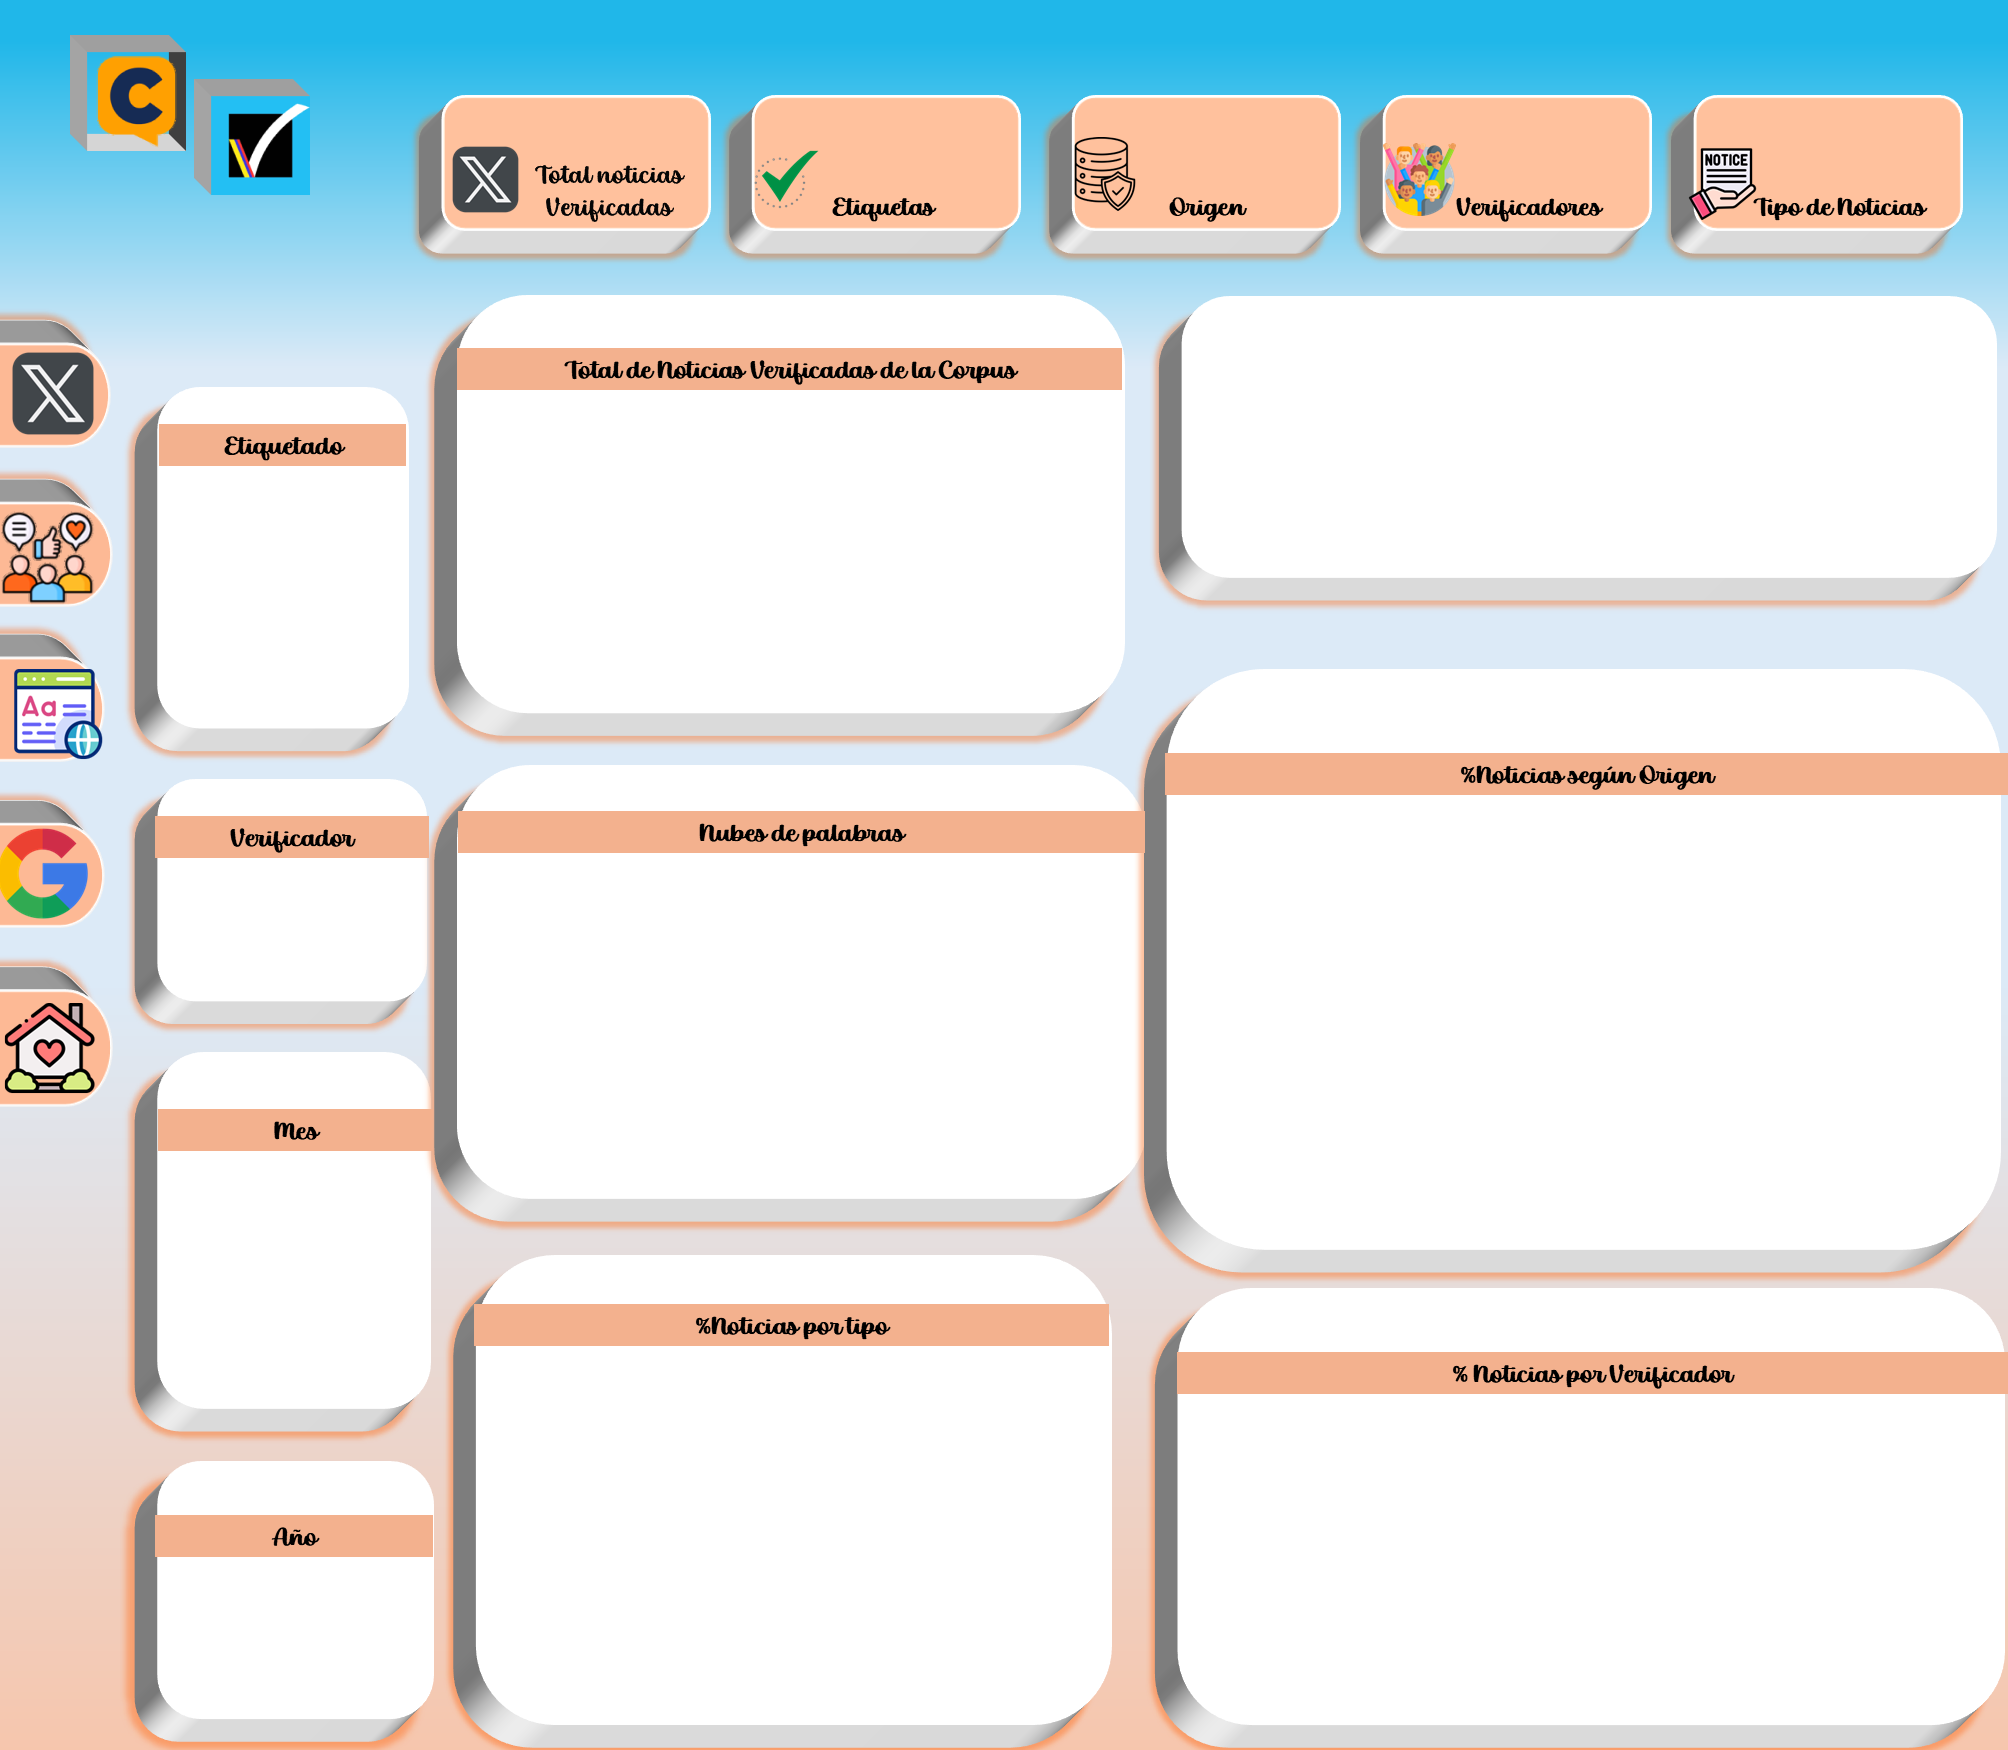

What the dashboard file says about the page in this screenshot:
{"tool":"powerbi","page":{"name":"Corpus-UG","canvas":[2008,1750],"ordinal":2},"visuals":[{"type":"slicer","title":"Etiquetado","fields":{"Values":["dim_etiqueta_verificacion.nombre"]},"box":[69.2,894.9,215.4,274.4],"z":0},{"type":"slicer","title":"Mes","fields":{"Values":["fact_noticias_corpu.Nombre del mes"]},"box":[61.7,538.3,223.4,317],"z":1000},{"type":"slicer","title":"Año","fields":{"Values":["fact_noticias_corpu.Año"]},"box":[70.2,227.7,217,268.1],"z":2000},{"type":"columnChart","title":"Total de Noticias Verificadas del Corpus","fields":{"Y":["Tabla.Total Rows Fact Noticias_corpus"],"Category":["dim_verificador (2).nombre"]},"box":[296,228,776,470],"z":3000},{"type":"shape","box":[70.2,1200,219.1,31.9],"z":4000},{"type":"slicer","title":"Verificador","fields":{"Values":["dim_verificador (2).nombre"]},"box":[71.8,1200,212.8,374.4],"z":5000},{"type":"cardVisual","fields":{"Data":["Tabla.Total Rows Fact Noticias_corpus"]},"box":[276,22,324,182],"z":6000},{"type":"multiRowCard","fields":{"Values":["Tabla.URL_Imagen_Verificador"]},"box":[97.4,30.8,156.4,156.4],"z":7000},{"type":"cardVisual","fields":{"Data":["Tabla.Total VERIFICADORES_corpus"]},"box":[1324,23,323.3,181.8],"z":8000},{"type":"cardVisual","fields":{"Data":["Tabla.Total etiquetadas Corpus"]},"box":[619.9,23,332.9,181.8],"z":9000},{"type":"cardVisual","fields":{"Data":["Tabla.Total origen Corpus"]},"box":[970,23,340.6,181.8],"z":10000},{"type":"cardVisual","fields":{"Data":["Tabla.Total tipo noticias Corpus"]},"box":[1660.7,23,338.6,181.8],"z":11000},{"type":"clusteredColumnChart","title":"Noticias según su categoría y Verificador","fields":{"Category":["dim_verificador (2).nombre"],"Y":["Tabla.Total Rows Fact Noticias_corpus"],"Series":["dim_tipo_noticia (2).nombre"]},"box":[294.9,712.8,1702.6,559],"z":12000},{"type":"pieChart","title":"% Noticias por Tipo","fields":{"Y":["Tabla.% Noticias por Tipo"],"Category":["dim_tipo_noticia (2).nombre"]},"box":[294.9,1289.7,761.5,430.8],"z":13000},{"type":"multiRowCard","title":"%Noticias por Verificador","fields":{"Values":["Tabla.% Noticias por Verificador","dim_verificador (2).nombre"]},"box":[1087.9,1289.7,910.3,431],"z":14000},{"type":"donutChart","title":"% Noticias por Origen ","fields":{"Y":["Tabla.% Noticias por Origen"],"Category":["dim_origen (2).nombre"]},"box":[1097.4,228.2,900,469.2],"z":15000},{"type":"shape","box":[0,0,70.7,1750],"z":16000},{"type":"actionButton","box":[7,1.4,54.8,59],"z":17000},{"type":"actionButton","box":[0,87.9,70.3,82.1],"z":18000}]}

Visuals, with their boxes in screenshot pixels (x1, y1, x2, y2), scaled from the page's 2008x1750 canvas onto the 2008x1750 screenshot:
"Etiquetado" slicer: 69, 895, 285, 1169
"Mes" slicer: 62, 538, 285, 855
"Año" slicer: 70, 228, 287, 496
"Total de Noticias Verificadas del Corpus" columnChart: 296, 228, 1072, 698
shape: 70, 1200, 289, 1232
"Verificador" slicer: 72, 1200, 285, 1574
cardVisual - Tabla.Total Rows Fact Noticias_corpus: 276, 22, 600, 204
multiRowCard - Tabla.URL_Imagen_Verificador: 97, 31, 254, 187
cardVisual - Tabla.Total VERIFICADORES_corpus: 1324, 23, 1647, 205
cardVisual - Tabla.Total etiquetadas Corpus: 620, 23, 953, 205
cardVisual - Tabla.Total origen Corpus: 970, 23, 1311, 205
cardVisual - Tabla.Total tipo noticias Corpus: 1661, 23, 1999, 205
"Noticias según su categoría y Verificador" clusteredColumnChart: 295, 713, 1998, 1272
"% Noticias por Tipo" pieChart: 295, 1290, 1056, 1720
"%Noticias por Verificador" multiRowCard: 1088, 1290, 1998, 1721
"% Noticias por Origen " donutChart: 1097, 228, 1997, 697
shape: 0, 0, 71, 1749
actionButton: 7, 1, 62, 60
actionButton: 0, 88, 70, 170
